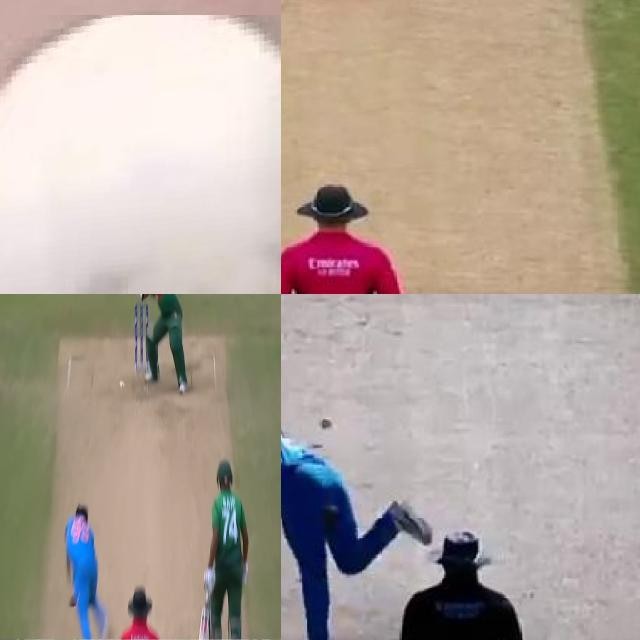Cricket ball: (0, 15, 281, 294), (317, 415, 334, 433), (119, 379, 125, 389)
Stumps: (134, 302, 149, 379)
